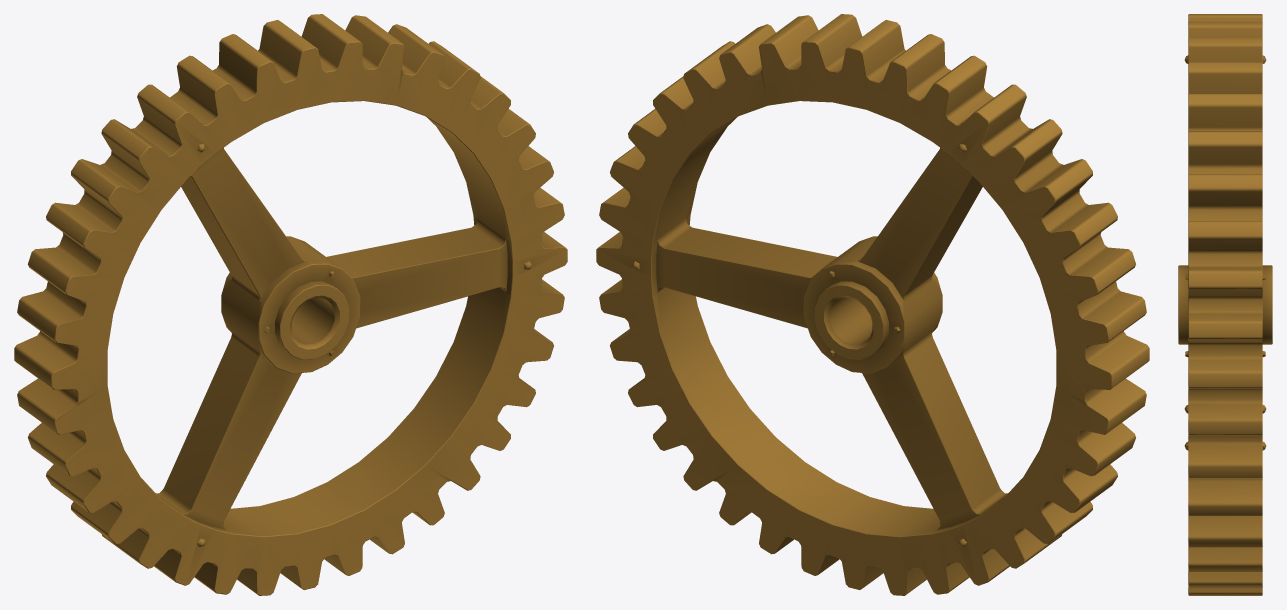
Rendered from gear_spur_36_m1.glb.
3 views of the same model, side by side, from view 1: azimuth 30°, elevation 25°; view 2: azimuth 150°, elevation 25°; view 3: azimuth 270°, elevation 25° (orthographic). The views are drawn at different scales.
Visible parts, largest first — view 1: GearSpur36_M1; view 2: GearSpur36_M1; view 3: GearSpur36_M1.
Part boxes in pixels (x1=…): GearSpur36_M1: x1=14, y1=14, x2=567, y2=595; GearSpur36_M1: x1=596, y1=14, x2=1149, y2=595; GearSpur36_M1: x1=1178, y1=14, x2=1272, y2=595.
Size of the model in its own units: 0.0943 by 0.0943 by 0.0152.
